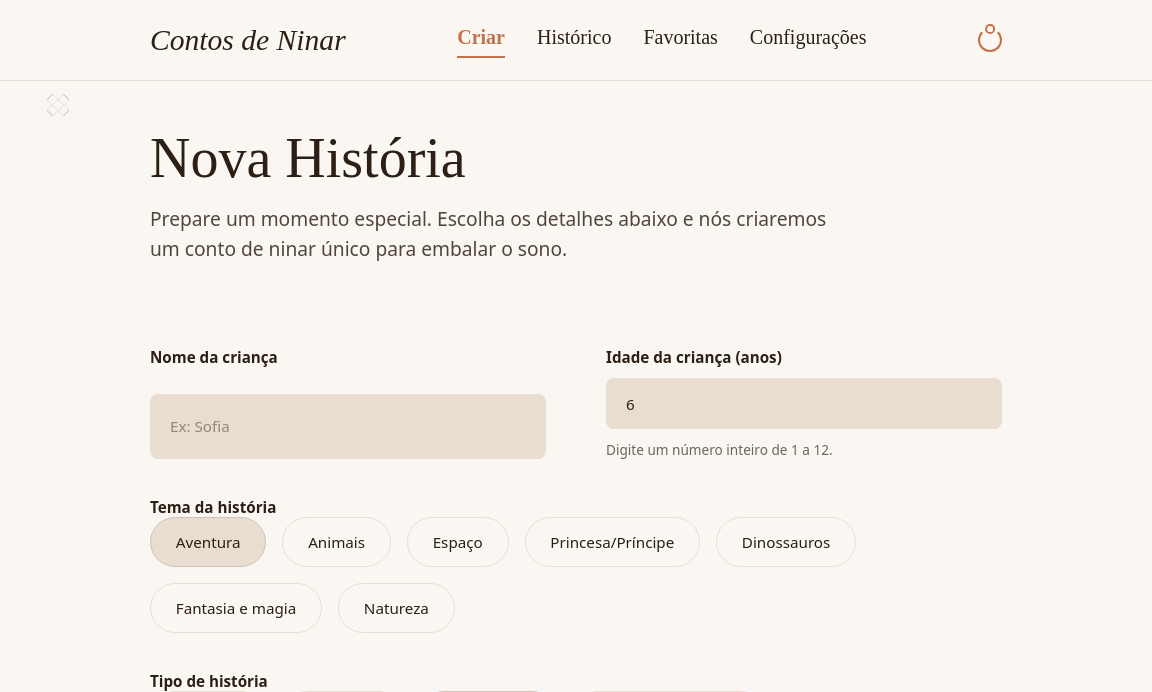
Favorite stories › shows Portuguese empty state when there are no favorite stories
The width and height of the screenshot is (1152, 692).
Click the tab "Favoritas" at (681, 40), box [643, 22, 718, 58]
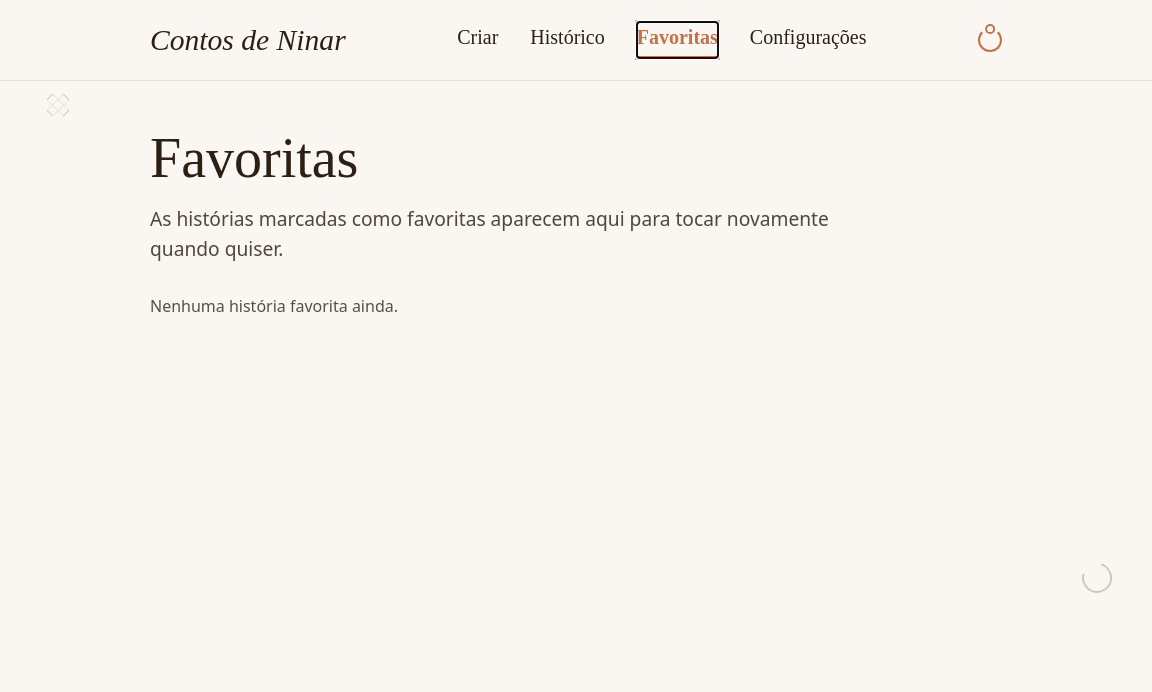
Now the text "Nenhuma história favorita ainda." is shown, box [150, 295, 398, 317]
